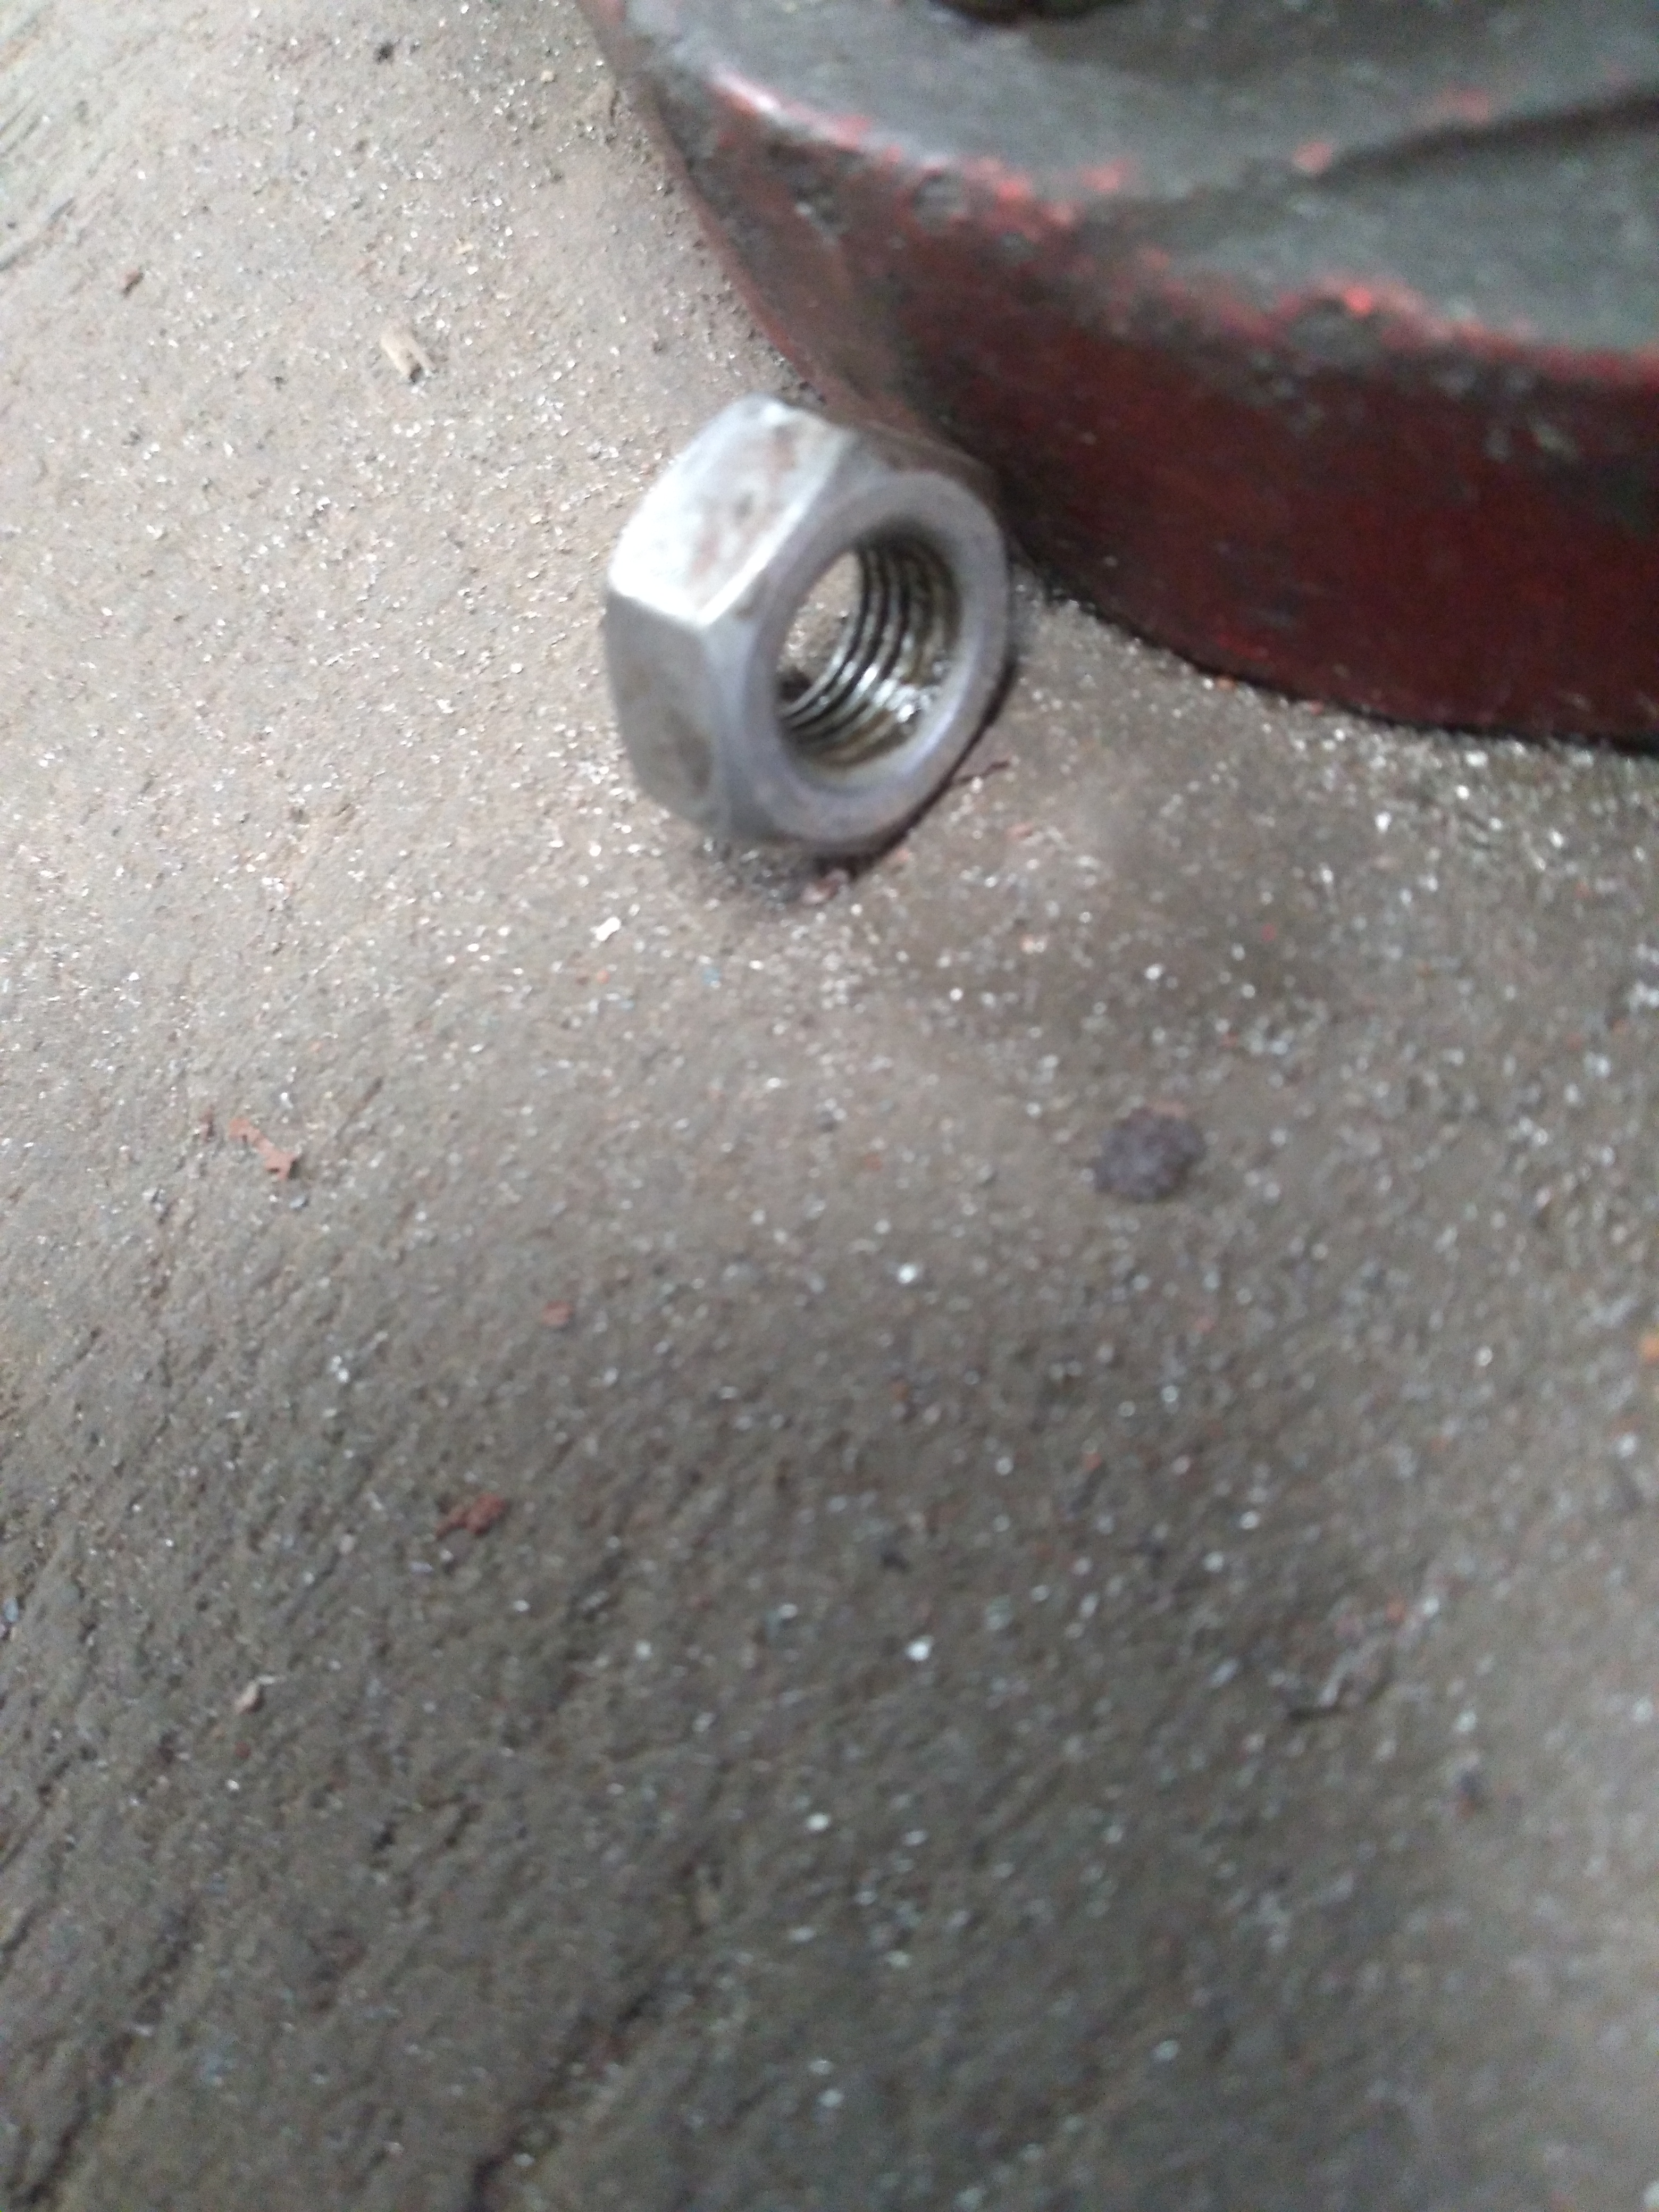Thread: (709, 453, 993, 806)
